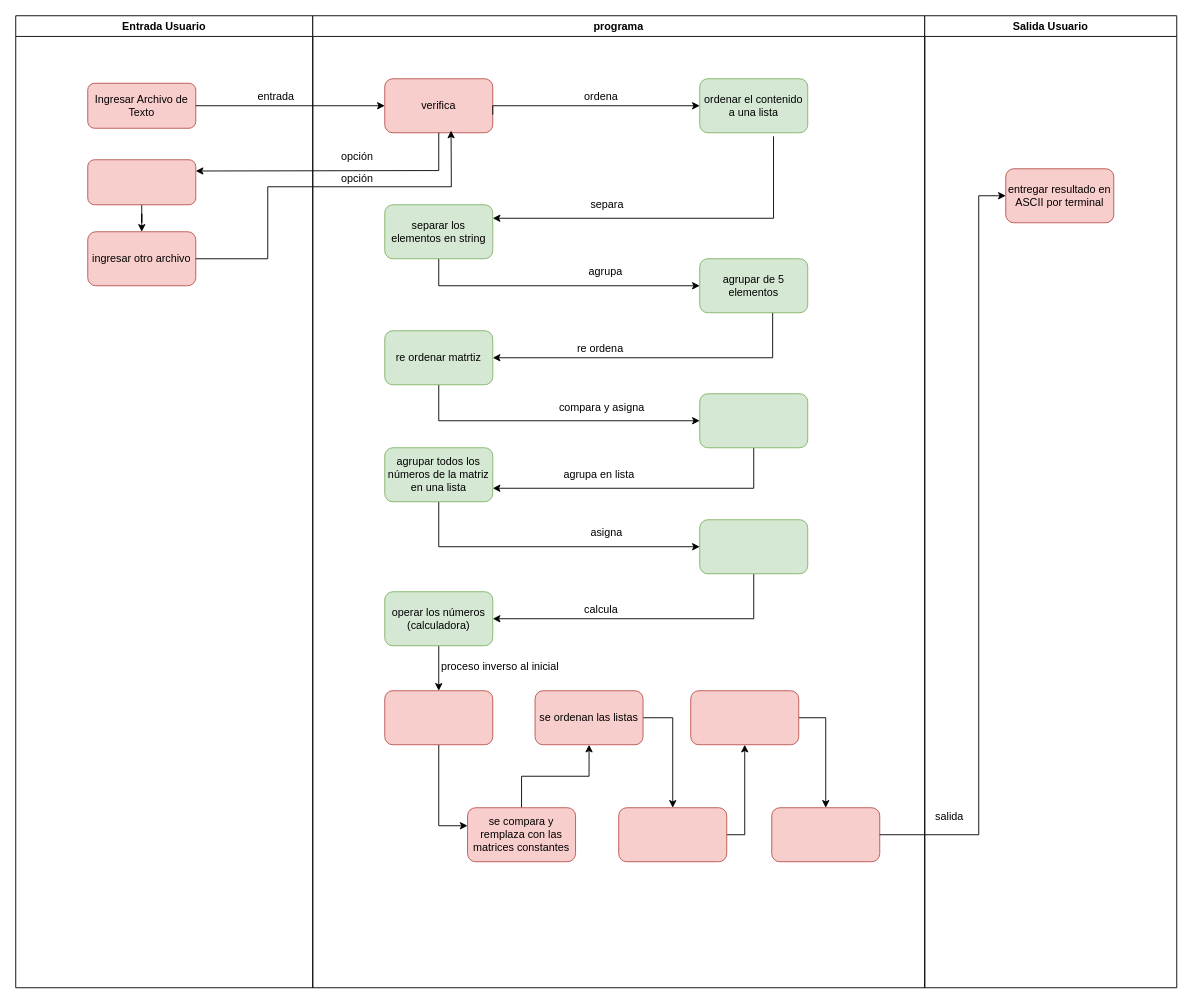
This 1193x1004 diagram has some shape labels left out. The shapes that lost their labels are listed below. From the top down, each one's centre as x and y in pixels, then its label:
the point at 141,182: error
the point at 753,420: transforma número en forma de string
the point at 753,546: a cada string se le asigna un valor numerico
the point at 438,717: los valores numéricos se transforman en strings
the point at 744,717: se agregan los respectivos saltos de linea
the point at 672,834: se unen todas las filas correspondientes
the point at 825,834: se guarda la matriz ampliada ya organizada en una variable
